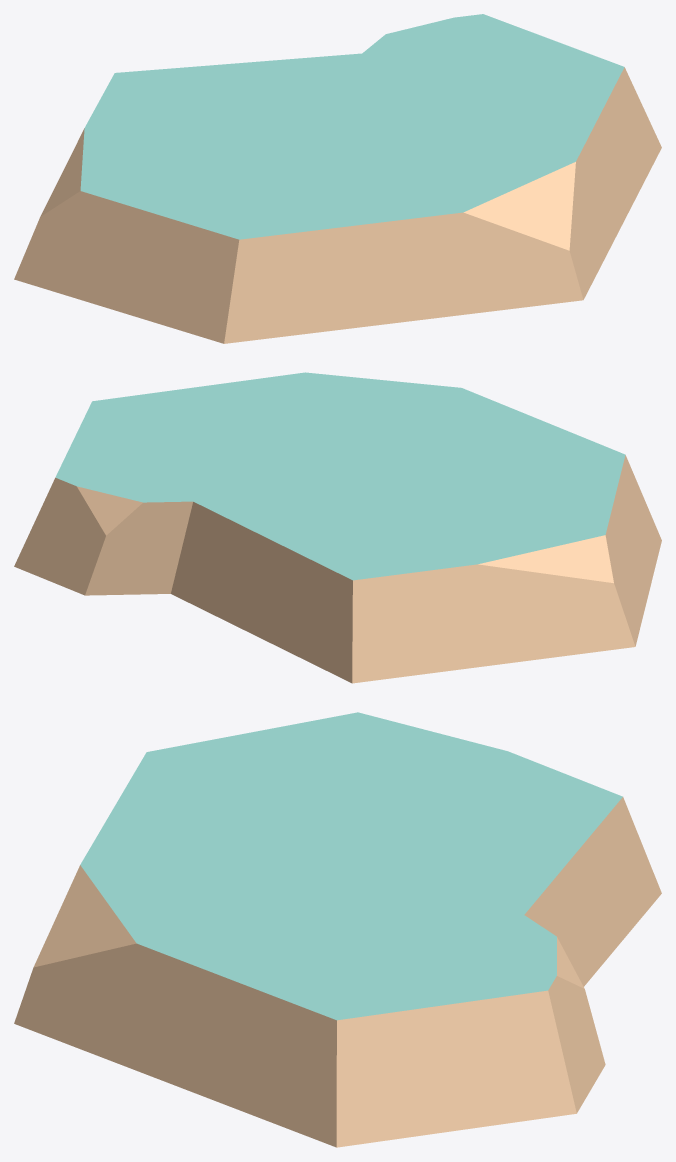
Rendered from nature-kit-classic--rock-smallflat3.glb.
3 views of the same model, one above another, from view 1: azimuth 30°, elevation 25°; view 2: azimuth 150°, elevation 25°; view 3: azimuth 270°, elevation 25° (orthographic). The views are drawn at different scales.
Parts seen in each view (by area): view 1: rock_smallFlat3; view 2: rock_smallFlat3; view 3: rock_smallFlat3.
Boxes of the visible parts, x1,y1,x2,y2 form: rock_smallFlat3: [14, 14, 661, 343]; rock_smallFlat3: [14, 372, 661, 683]; rock_smallFlat3: [14, 712, 661, 1147].
Size of the model in its own units: 0.4704 by 0.0649 by 0.3603.
